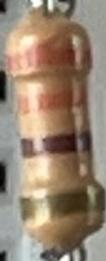Brown: (18, 126, 94, 161)
Orange: (11, 86, 88, 119), (5, 46, 94, 74)
Side-Gold: (20, 183, 104, 224)
